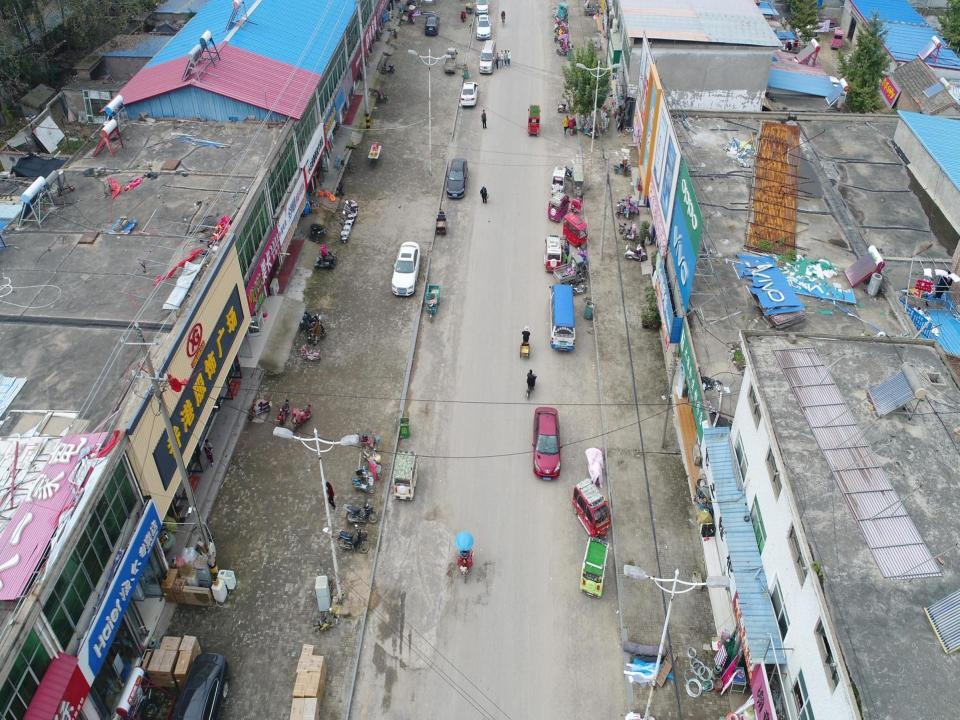car: (172, 652, 230, 719), (532, 406, 566, 484), (390, 240, 421, 296), (445, 158, 468, 199), (460, 79, 478, 108), (476, 13, 492, 41), (424, 14, 440, 38)
van: (548, 282, 576, 350), (478, 39, 498, 75)
